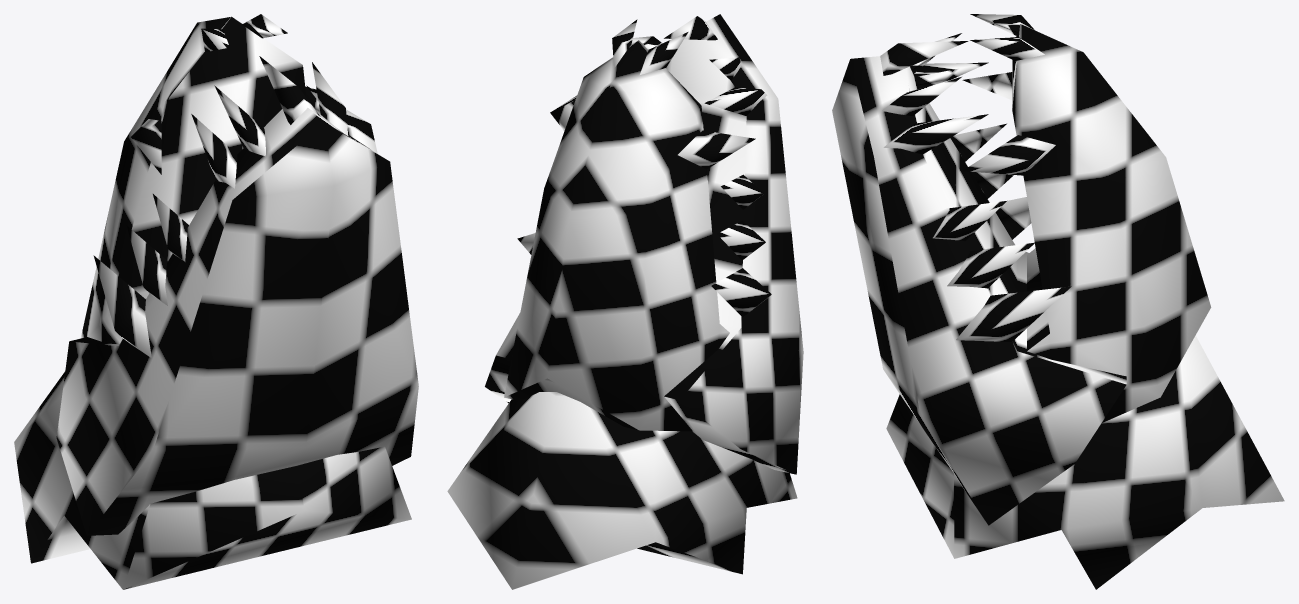
The model's file is infaunanwicr.dae.
3 renders of one model, left to right at view 1: azimuth 30°, elevation 25°; view 2: azimuth 150°, elevation 25°; view 3: azimuth 270°, elevation 25°, orthographic. The views are drawn at different scales.
Visible parts, largest first — view 1: face; view 2: face; view 3: face.
Part boxes in pixels (<box>): face: <box>14,14,418,589</box>; face: <box>447,14,803,589</box>; face: <box>832,14,1284,589</box>.
Bounding box in the file's own units: 1.46 × 1.92 × 2.31.
1 material, 1 textured.
